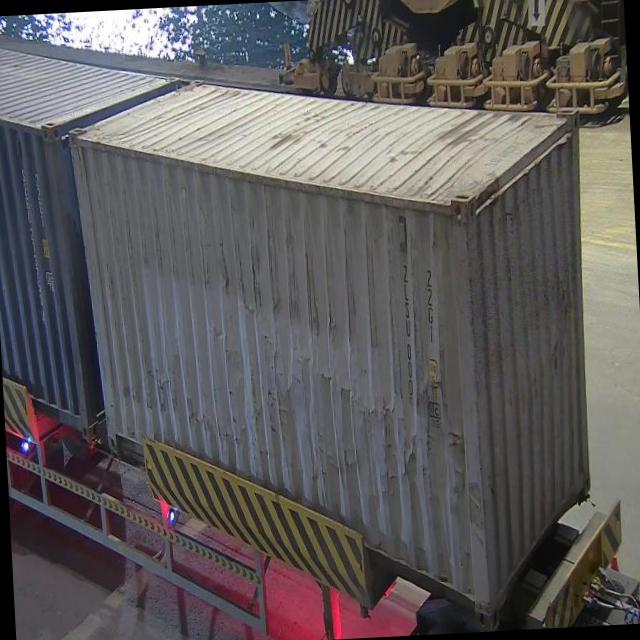Deframe_or_Dent: (302, 338, 424, 497), (146, 362, 204, 435)
